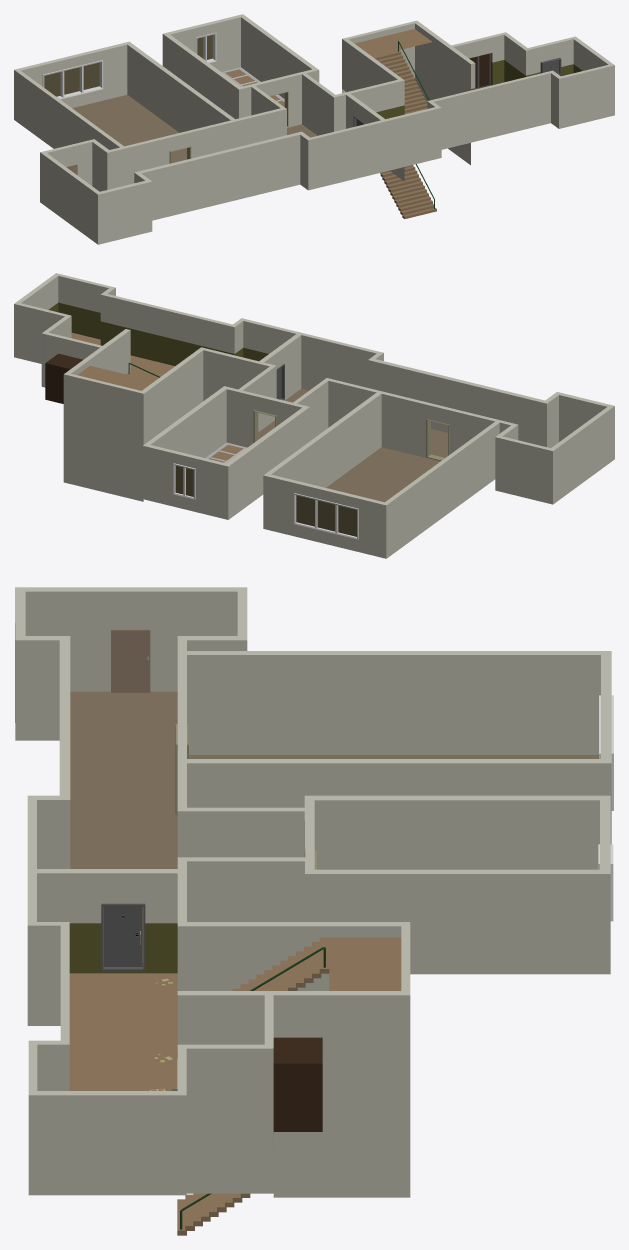
The model's file is SOvetka01_PT2_exp1.fbx.
The picture shows the model from 3 angles, top to bottom: view 1: azimuth 30°, elevation 25°; view 2: azimuth 150°, elevation 25°; view 3: azimuth 270°, elevation 25°; orthographic projection. The views are drawn at different scales.
Visible parts, largest first — view 1: Plane.001, Cube.012, Cube, Plane.018, Plane.014, Окно3х, Lift_doors.001; view 2: Plane.001, Plane.018, liFT, Plane.014, Окно3х, Plane.020; view 3: Plane.001, liFT, Plane.014, Cube.015, Cube.017, Cube, Cube.012.
Boxes of the visible parts, box(x1,y1,x2,y2) form: Plane.001: box(14, 14, 614, 244); Cube.012: box(380, 165, 436, 218); Cube: box(372, 50, 427, 114); Plane.018: box(44, 62, 99, 96); Plane.014: box(354, 29, 431, 56); Окно3х: box(42, 60, 103, 99); Lift_doors.001: box(478, 53, 490, 88); Plane.001: box(14, 273, 614, 558); Plane.018: box(296, 495, 356, 536); liFT: box(45, 353, 82, 403); Plane.014: box(77, 365, 153, 390); Окно3х: box(294, 493, 358, 539); Plane.020: box(175, 466, 193, 496); Plane.001: box(15, 587, 611, 1197); liFT: box(273, 1037, 322, 1131); Plane.014: box(329, 937, 401, 990); Cube.015: box(111, 629, 150, 692); Cube.017: box(103, 906, 142, 966); Cube: box(177, 937, 329, 1057); Cube.012: box(177, 1193, 250, 1235).
Size of the model in its own units: 24912 by 6569 by 12417.
